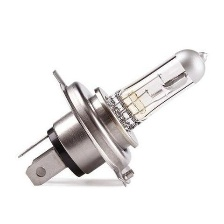light_bulb: (11, 45, 211, 190)
